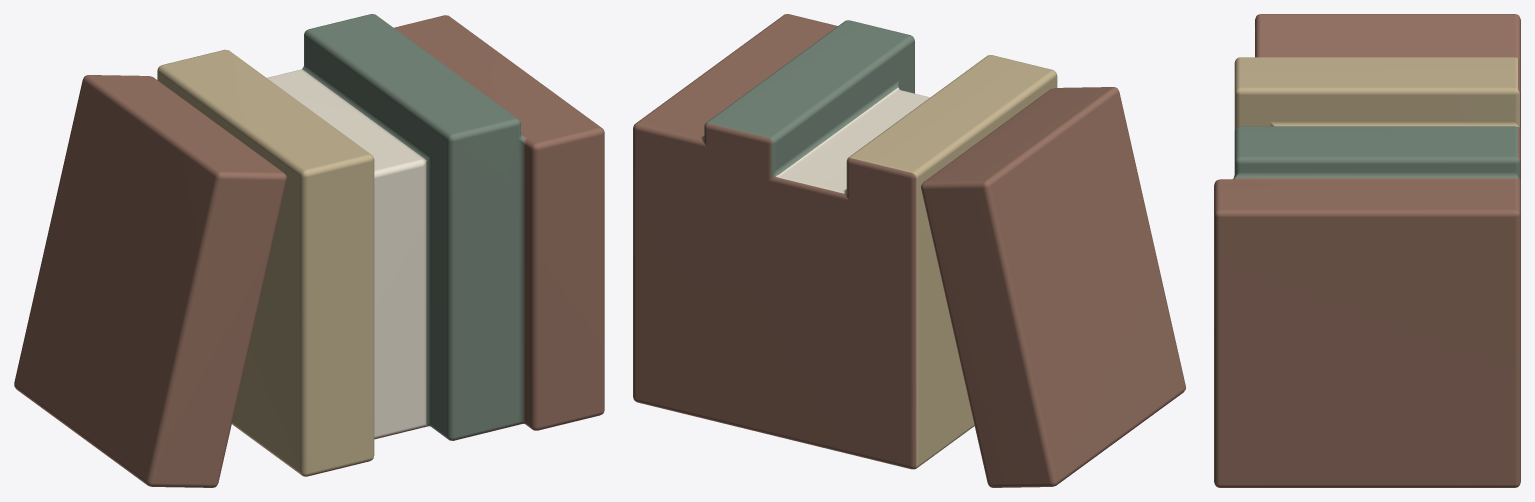
Rendered from books.glb.
The picture shows the model from 3 angles, left to right: view 1: azimuth 30°, elevation 25°; view 2: azimuth 150°, elevation 25°; view 3: azimuth 270°, elevation 25°; orthographic projection. The views are drawn at different scales.
Visible parts, largest first — view 1: books(Clone); view 2: books(Clone); view 3: books(Clone).
Part boxes in pixels (x1,y1,x2,y2): books(Clone): (14, 14, 604, 487); books(Clone): (633, 14, 1185, 487); books(Clone): (1214, 14, 1520, 487).
Bounding box in the file's own units: 0.15 × 0.1035 × 0.0945.
